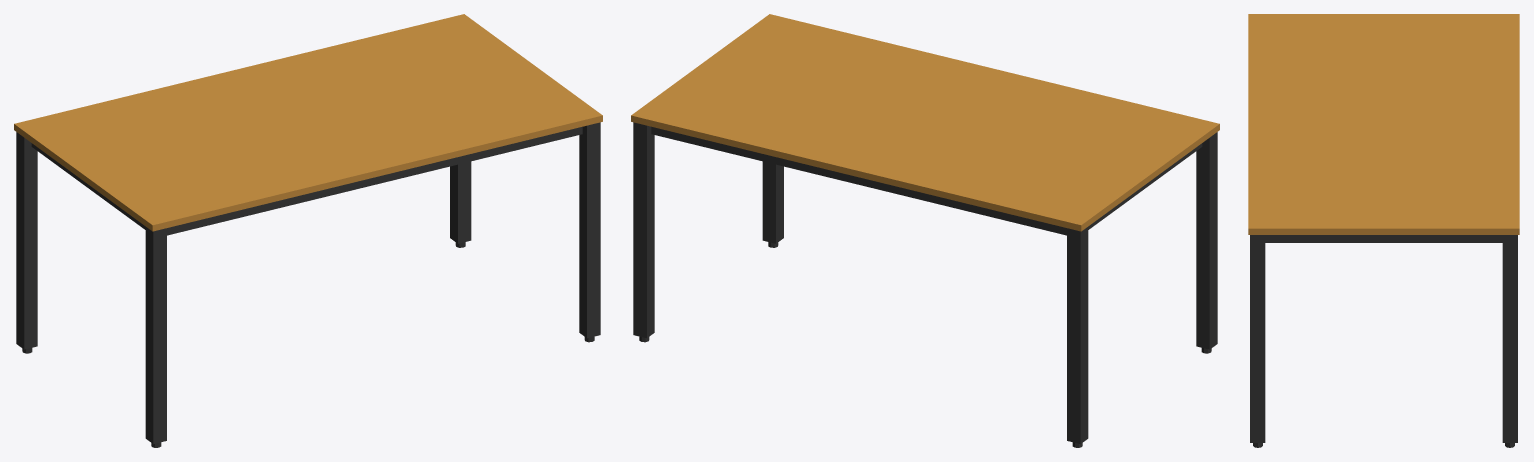
The model's file is legDesk150.fbx.
3 renders of one model, left to right at view 1: azimuth 30°, elevation 25°; view 2: azimuth 150°, elevation 25°; view 3: azimuth 270°, elevation 25°, orthographic. The views are drawn at different scales.
Visible parts, largest first — view 1: legDesk150; view 2: legDesk150; view 3: legDesk150.
Part boxes in pixels (box(x1,y1,x2,y2)): legDesk150: box(14, 14, 602, 447); legDesk150: box(631, 14, 1219, 447); legDesk150: box(1248, 14, 1519, 447).
Size of the model in its own units: 150 by 72 by 80.
